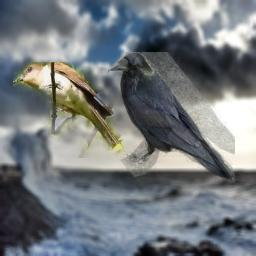Crow: (108, 52, 235, 182)
Cuckoo: (13, 62, 124, 158)
